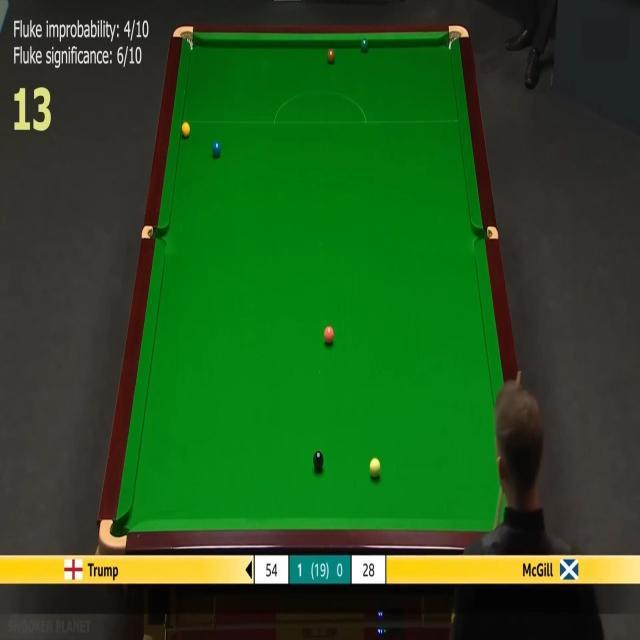Ball: (313, 450, 324, 470), (370, 458, 380, 478), (324, 325, 334, 343), (212, 140, 221, 156), (182, 121, 190, 137), (327, 48, 335, 62), (361, 38, 368, 51)
